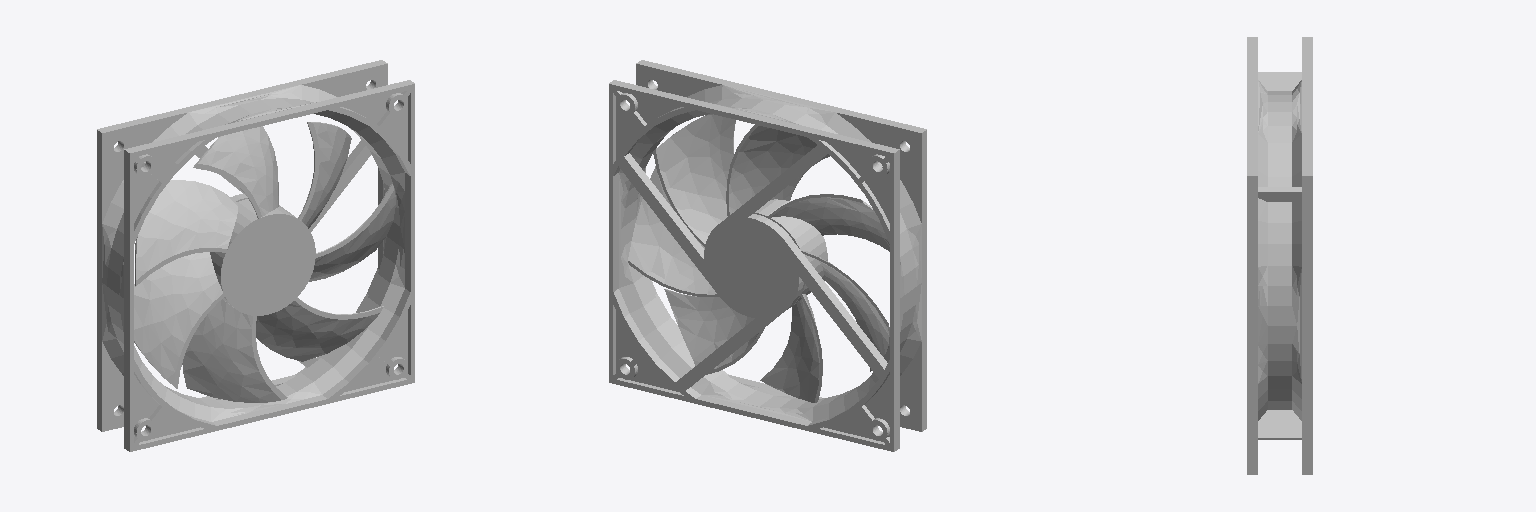
Rendered from fan.obj.
The picture shows the model from 3 angles: view 1: azimuth 30°, elevation 25°; view 2: azimuth 150°, elevation 25°; view 3: azimuth 270°, elevation 25°; orthographic projection.
Parts seen in each view (by area): view 1: FM12025HSL TIDAR FAN/FM12025HSL TIDAR FAN/Volute, FM12025HSL TIDAR FAN/FM12025HSL TIDAR FAN/Fan/Patrón/Blade, FM12025HSL TIDAR FAN/FM12025HSL TIDAR FAN/Fan/Hub; view 2: FM12025HSL TIDAR FAN/FM12025HSL TIDAR FAN/Volute, FM12025HSL TIDAR FAN/FM12025HSL TIDAR FAN/Fan/Patrón/Blade, FM12025HSL TIDAR FAN/FM12025HSL TIDAR FAN/Fan/Hub; view 3: FM12025HSL TIDAR FAN/FM12025HSL TIDAR FAN/Volute.
Boxes of the visible parts, <box> form: FM12025HSL TIDAR FAN/FM12025HSL TIDAR FAN/Volute: <box>97,60,414,451</box>; FM12025HSL TIDAR FAN/FM12025HSL TIDAR FAN/Fan/Patrón/Blade: <box>134,122,395,402</box>; FM12025HSL TIDAR FAN/FM12025HSL TIDAR FAN/Fan/Hub: <box>210,199,315,315</box>; FM12025HSL TIDAR FAN/FM12025HSL TIDAR FAN/Volute: <box>609,60,926,451</box>; FM12025HSL TIDAR FAN/FM12025HSL TIDAR FAN/Fan/Patrón/Blade: <box>628,114,889,402</box>; FM12025HSL TIDAR FAN/FM12025HSL TIDAR FAN/Fan/Hub: <box>754,199,827,307</box>; FM12025HSL TIDAR FAN/FM12025HSL TIDAR FAN/Volute: <box>1247,37,1312,474</box>.
Bounding box in the file's own units: 120 × 120 × 24.